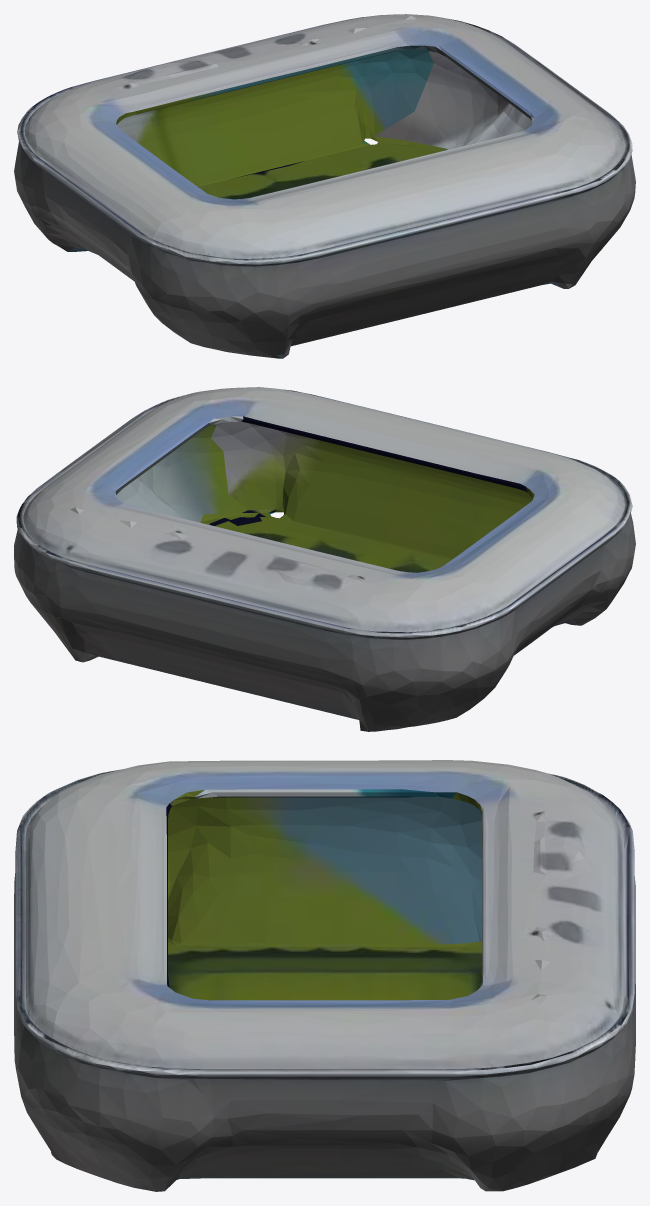
The model's file is pabellon_mogyorod.glb.
The picture shows the model from 3 angles, top to bottom: view 1: azimuth 30°, elevation 25°; view 2: azimuth 150°, elevation 25°; view 3: azimuth 270°, elevation 25°; orthographic projection. The views are drawn at different scales.
Visible parts, largest first — view 1: tmpha3tsonv.ply; view 2: tmpha3tsonv.ply; view 3: tmpha3tsonv.ply.
Part boxes in pixels (x1=…): tmpha3tsonv.ply: x1=14, y1=14, x2=635, y2=358; tmpha3tsonv.ply: x1=14, y1=387, x2=635, y2=731; tmpha3tsonv.ply: x1=14, y1=760, x2=635, y2=1191.
Bounding box in the file's own units: 1.99 × 0.5321 × 1.69.
1 material, 1 textured.
